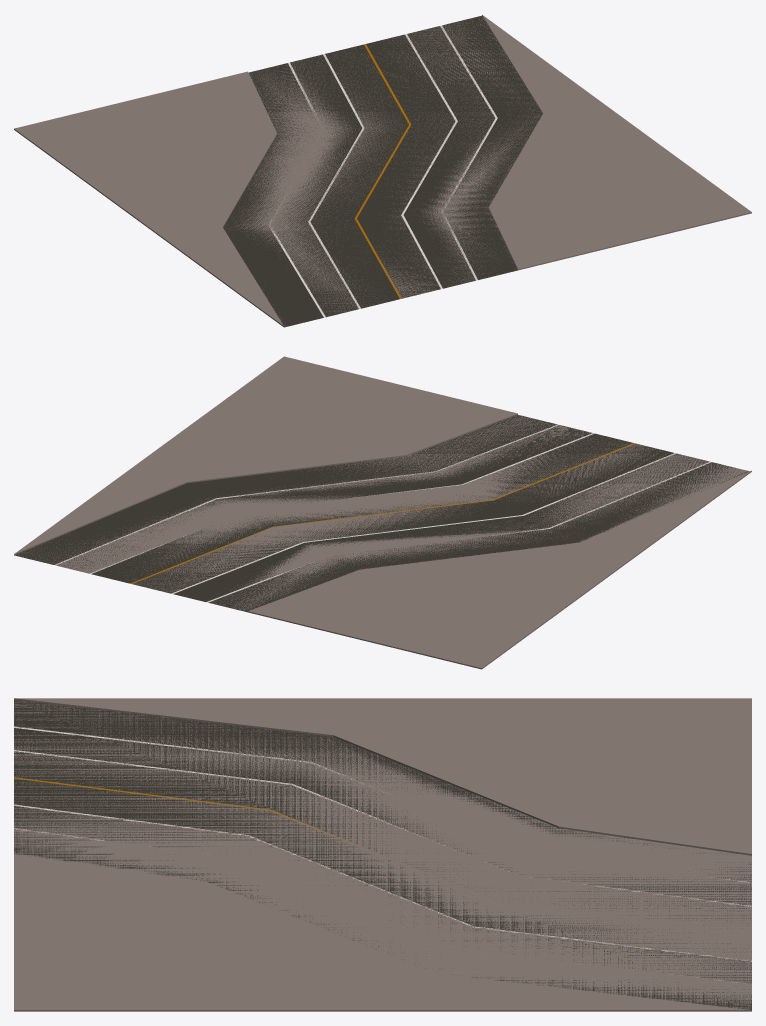
The model's file is Env_3lane_CurveB.fbx.
3 renders of one model, top to bottom at view 1: azimuth 30°, elevation 25°; view 2: azimuth 150°, elevation 25°; view 3: azimuth 270°, elevation 25°, orthographic. The views are drawn at different scales.
Parts seen in each view (by area): view 1: Env_3lane_CurveB; view 2: Env_3lane_CurveB; view 3: Env_3lane_CurveB.
Boxes of the visible parts, <box> form: Env_3lane_CurveB: <box>14,15,751,327</box>; Env_3lane_CurveB: <box>14,356,751,669</box>; Env_3lane_CurveB: <box>14,698,751,1011</box>.
Size of the model in its own units: 4000 by 10 by 4000.
